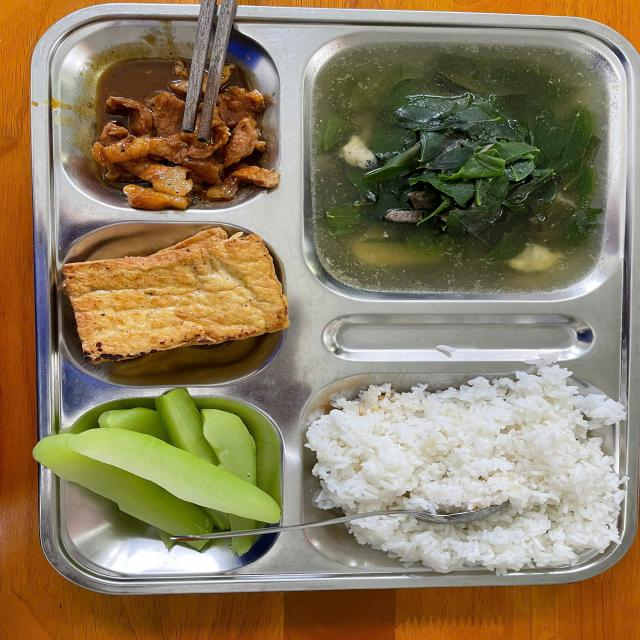canhrau: (311, 52, 609, 296)
dauhu: (63, 236, 289, 364)
salad: (305, 380, 622, 580)
suon: (46, 398, 287, 558)
tomramthit: (66, 46, 278, 210)
